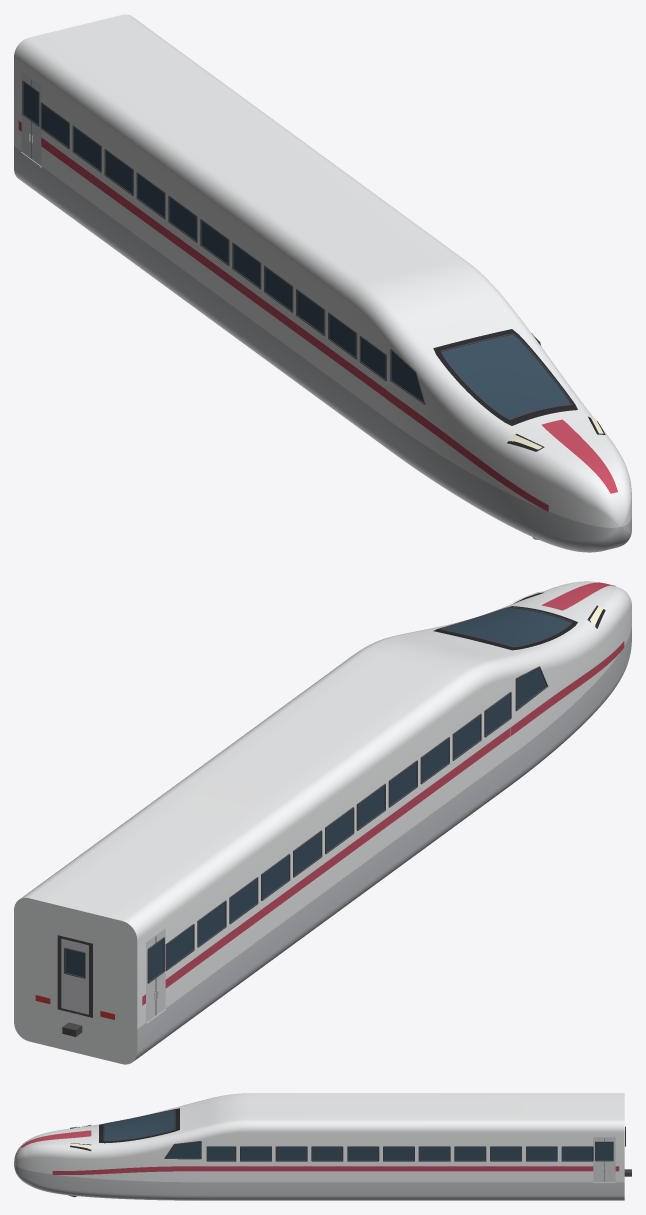
Rendered from 1_close.fbx.
The picture shows the model from 3 angles, top to bottom: view 1: azimuth 30°, elevation 25°; view 2: azimuth 150°, elevation 25°; view 3: azimuth 270°, elevation 25°; orthographic projection. The views are drawn at different scales.
Parts seen in each view (by area): view 1: 23_1_close; view 2: 23_1_close; view 3: 23_1_close.
Boxes of the visible parts, x1=… form: 23_1_close: x1=14, y1=14, x2=631, y2=552; 23_1_close: x1=14, y1=581, x2=631, y2=1064; 23_1_close: x1=14, y1=1093, x2=631, y2=1200.
Size of the model in its own units: 3.39 by 3.72 by 25.6.
